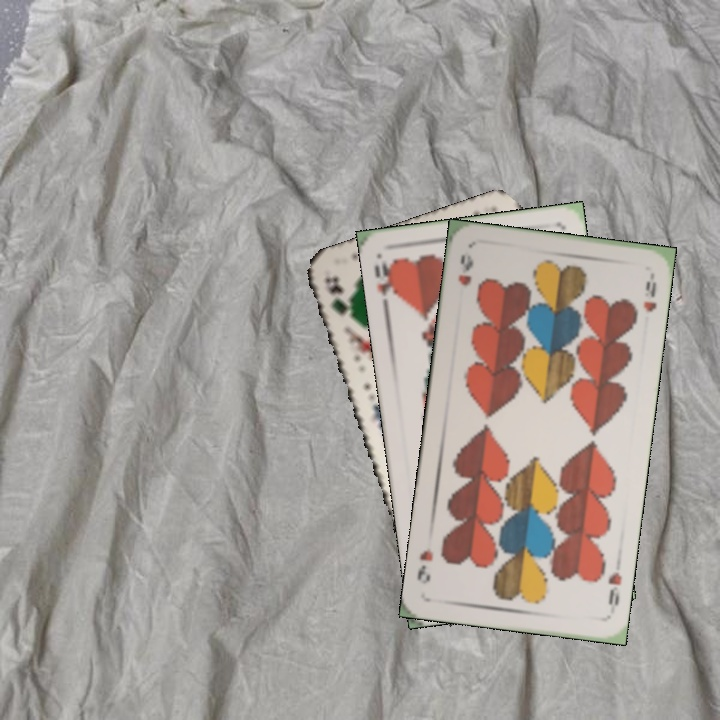GK: (321, 272, 358, 326)
H9: (604, 568, 625, 608), (454, 251, 476, 288)
HO: (370, 253, 399, 313)
